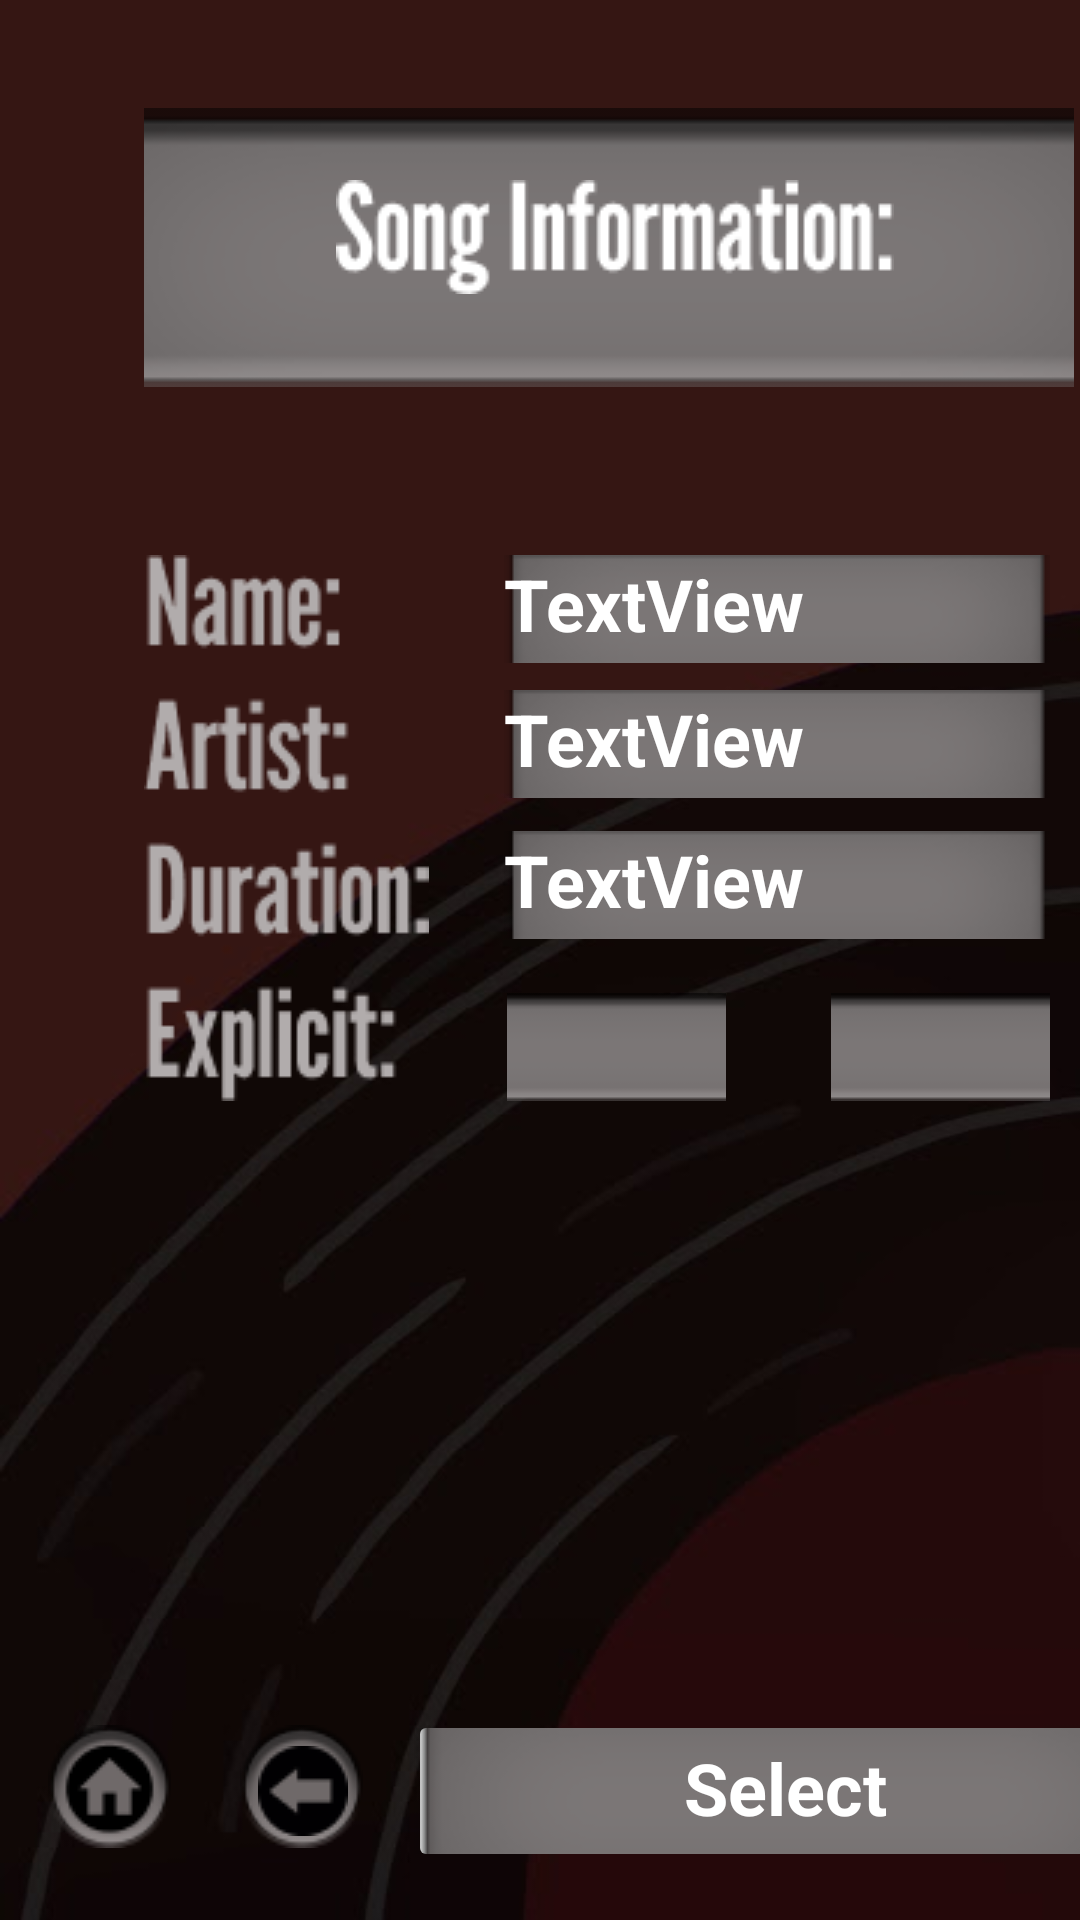

Screen size 1080x1920. Icon name, then its center in pixels as [x,y]:
back arrow: [303,1791]
home circle: [109,1789]
